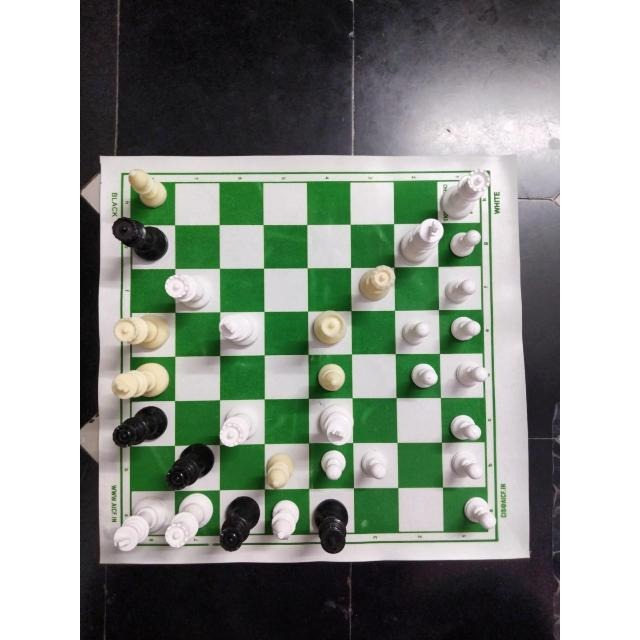black-king: (311, 498, 353, 554)
black-queen: (110, 216, 171, 263), (218, 494, 262, 554), (111, 405, 173, 446), (165, 443, 217, 489)
white-bishop: (122, 166, 171, 209), (262, 450, 301, 491), (266, 500, 302, 542), (314, 358, 350, 393)
white-king: (111, 497, 171, 553), (109, 362, 173, 400), (398, 218, 446, 266), (315, 404, 354, 448), (216, 315, 261, 347)
white-pawn: (449, 357, 493, 394), (457, 494, 497, 534), (441, 410, 485, 444), (446, 226, 485, 262), (445, 311, 482, 347), (447, 452, 487, 483), (398, 313, 432, 349), (315, 449, 349, 485), (442, 274, 480, 306), (402, 359, 438, 392), (358, 450, 392, 484)
white-queen: (440, 165, 492, 221), (164, 493, 214, 549), (107, 314, 172, 354), (161, 270, 213, 311), (354, 263, 397, 306), (217, 406, 261, 448), (310, 311, 348, 351)
